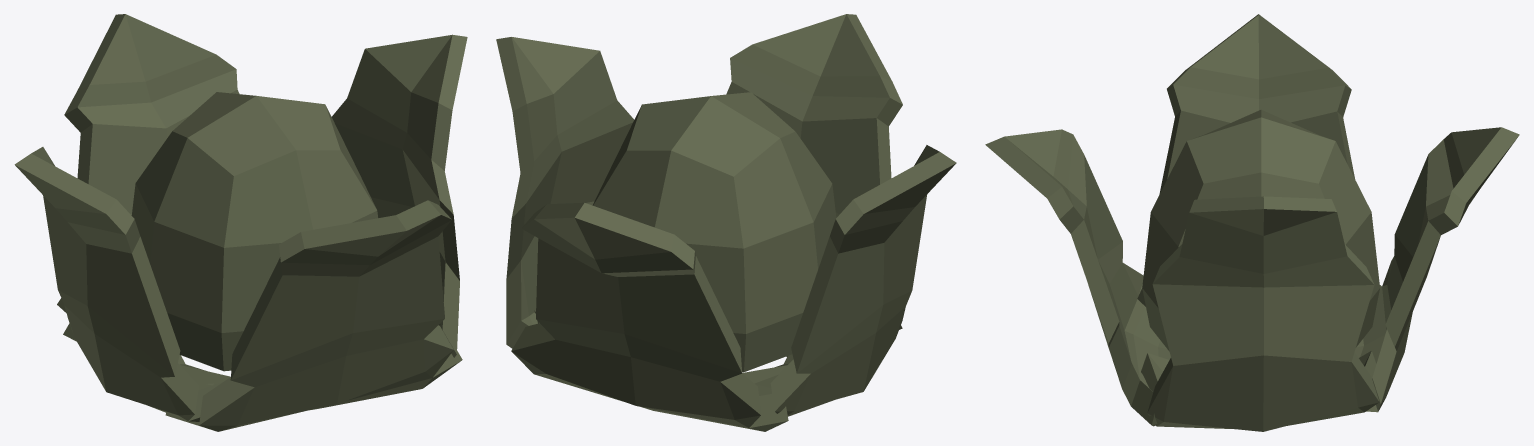
The model's file is Lettuce_3.glb.
3 views of the same model, side by side, from view 1: azimuth 30°, elevation 25°; view 2: azimuth 150°, elevation 25°; view 3: azimuth 270°, elevation 25° (orthographic). The views are drawn at different scales.
Parts seen in each view (by area): view 1: Lettuce_3; view 2: Lettuce_3; view 3: Lettuce_3.
Boxes of the visible parts, x1=… form: Lettuce_3: x1=14, y1=14, x2=467, y2=431; Lettuce_3: x1=496, y1=14, x2=956, y2=431; Lettuce_3: x1=985, y1=14, x2=1519, y2=431.
Bounding box in the file's own units: 0.6232 × 0.3816 × 0.6764.
